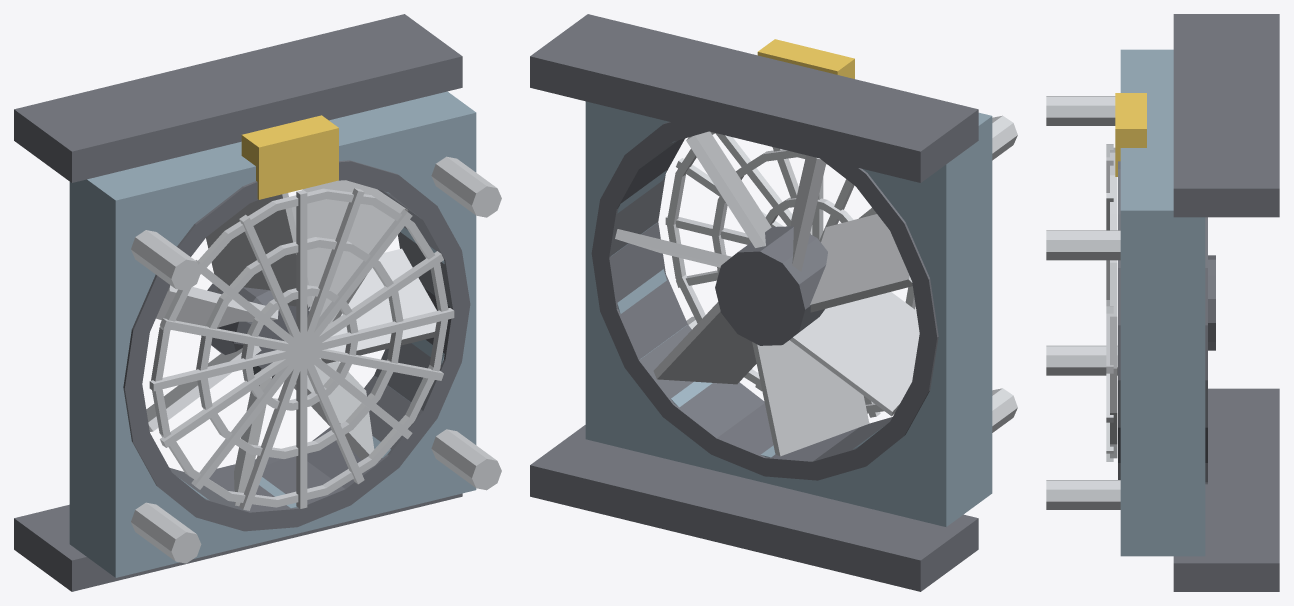
The model's file is animated-mechanisms-kit-cooling-fan-grille-61cb4e1f__24630.glb.
3 renders of one model, left to right at view 1: azimuth 30°, elevation 25°; view 2: azimuth 150°, elevation 25°; view 3: azimuth 270°, elevation 25°, orthographic. The views are drawn at different scales.
Visible parts, largest first — view 1: cooling-fan-grille, fan/steel, fan/iron; view 2: cooling-fan-grille, fan/steel, fan/iron; view 3: cooling-fan-grille, fan/iron.
Boxes of the visible parts, box(x1,y1,x2,y2) form: cooling-fan-grille: box(14, 14, 501, 591); fan/steel: box(146, 180, 446, 506); fan/iron: box(207, 283, 310, 378); cooling-fan-grille: box(530, 14, 1017, 591); fan/steel: box(615, 131, 919, 456); fan/iron: box(715, 226, 827, 345); cooling-fan-grille: box(1046, 14, 1279, 591); fan/iron: box(1208, 255, 1215, 350).
Size of the model in its own units: 0.78 by 0.84 by 0.44.
